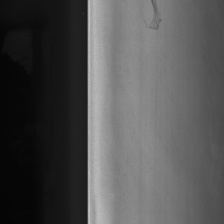water_spot: (138, 0, 166, 34)
